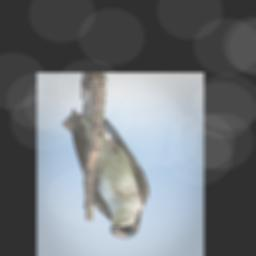Swallow: (61, 101, 149, 240)
